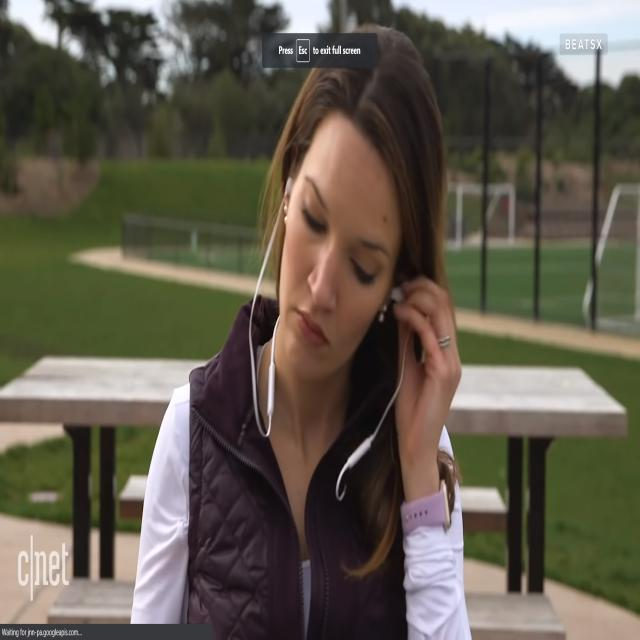Neckband: (247, 176, 413, 502)
